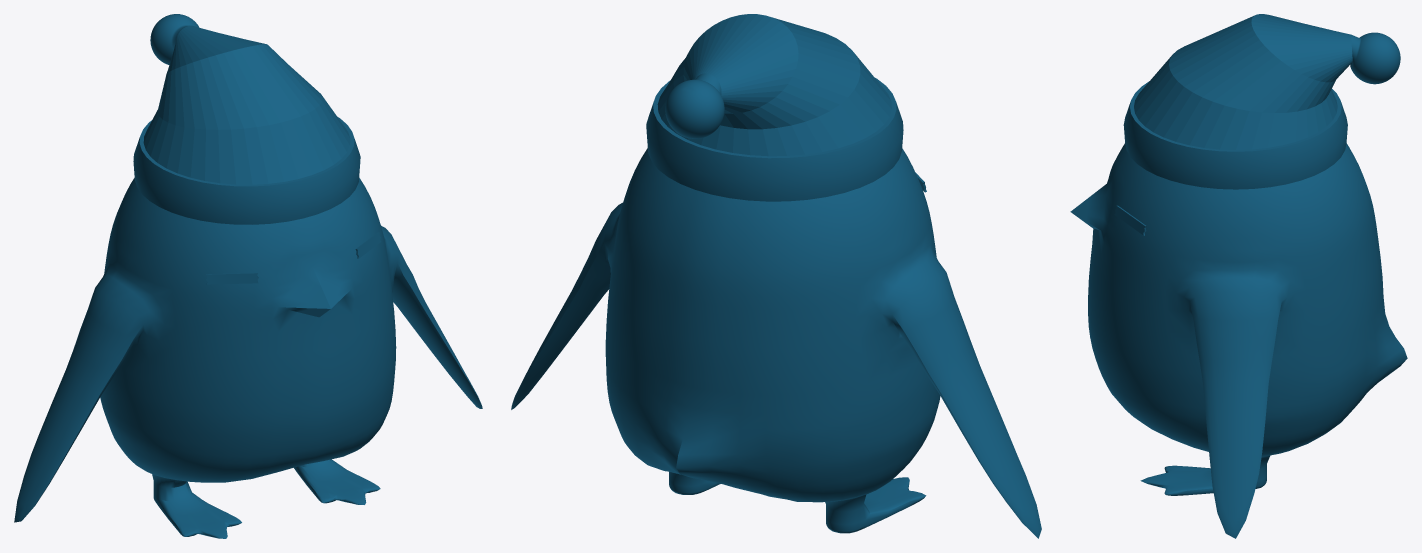
The model's file is penguin_blue_idle_24f.fbx.
The picture shows the model from 3 angles, left to right: view 1: azimuth 30°, elevation 25°; view 2: azimuth 150°, elevation 25°; view 3: azimuth 270°, elevation 25°; orthographic projection. The views are drawn at different scales.
Parts seen in each view (by area): view 1: ppp_24, bousi, ai; view 2: ppp_24, bousi; view 3: ppp_24, bousi.
Boxes of the visible parts, x1,y1,x2,y2 form: ppp_24: (14, 177, 482, 538); bousi: (133, 14, 360, 224); ai: (206, 232, 381, 284); ppp_24: (511, 148, 1041, 538); bousi: (646, 14, 903, 201); ppp_24: (1070, 143, 1407, 538); bousi: (1123, 14, 1400, 189).
Bounding box in the file's own units: 22.53 × 20.11 × 14.34.
1 material, 1 textured.
